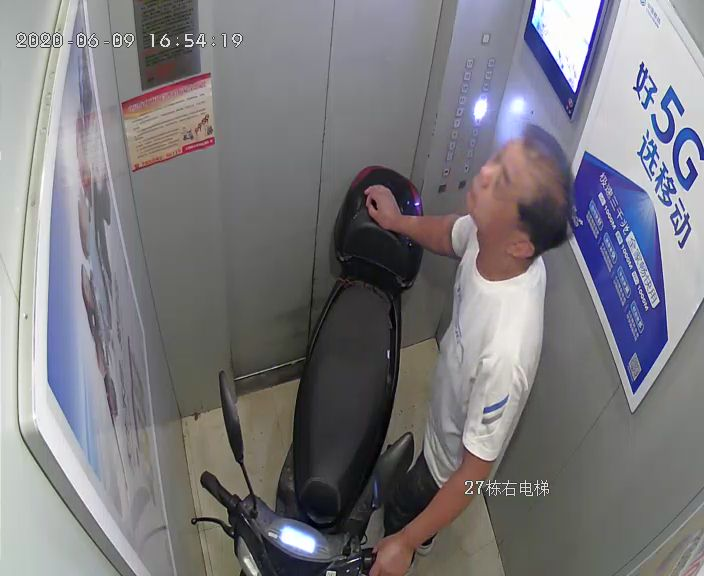Electric-bicycle: (237, 164, 420, 576)
